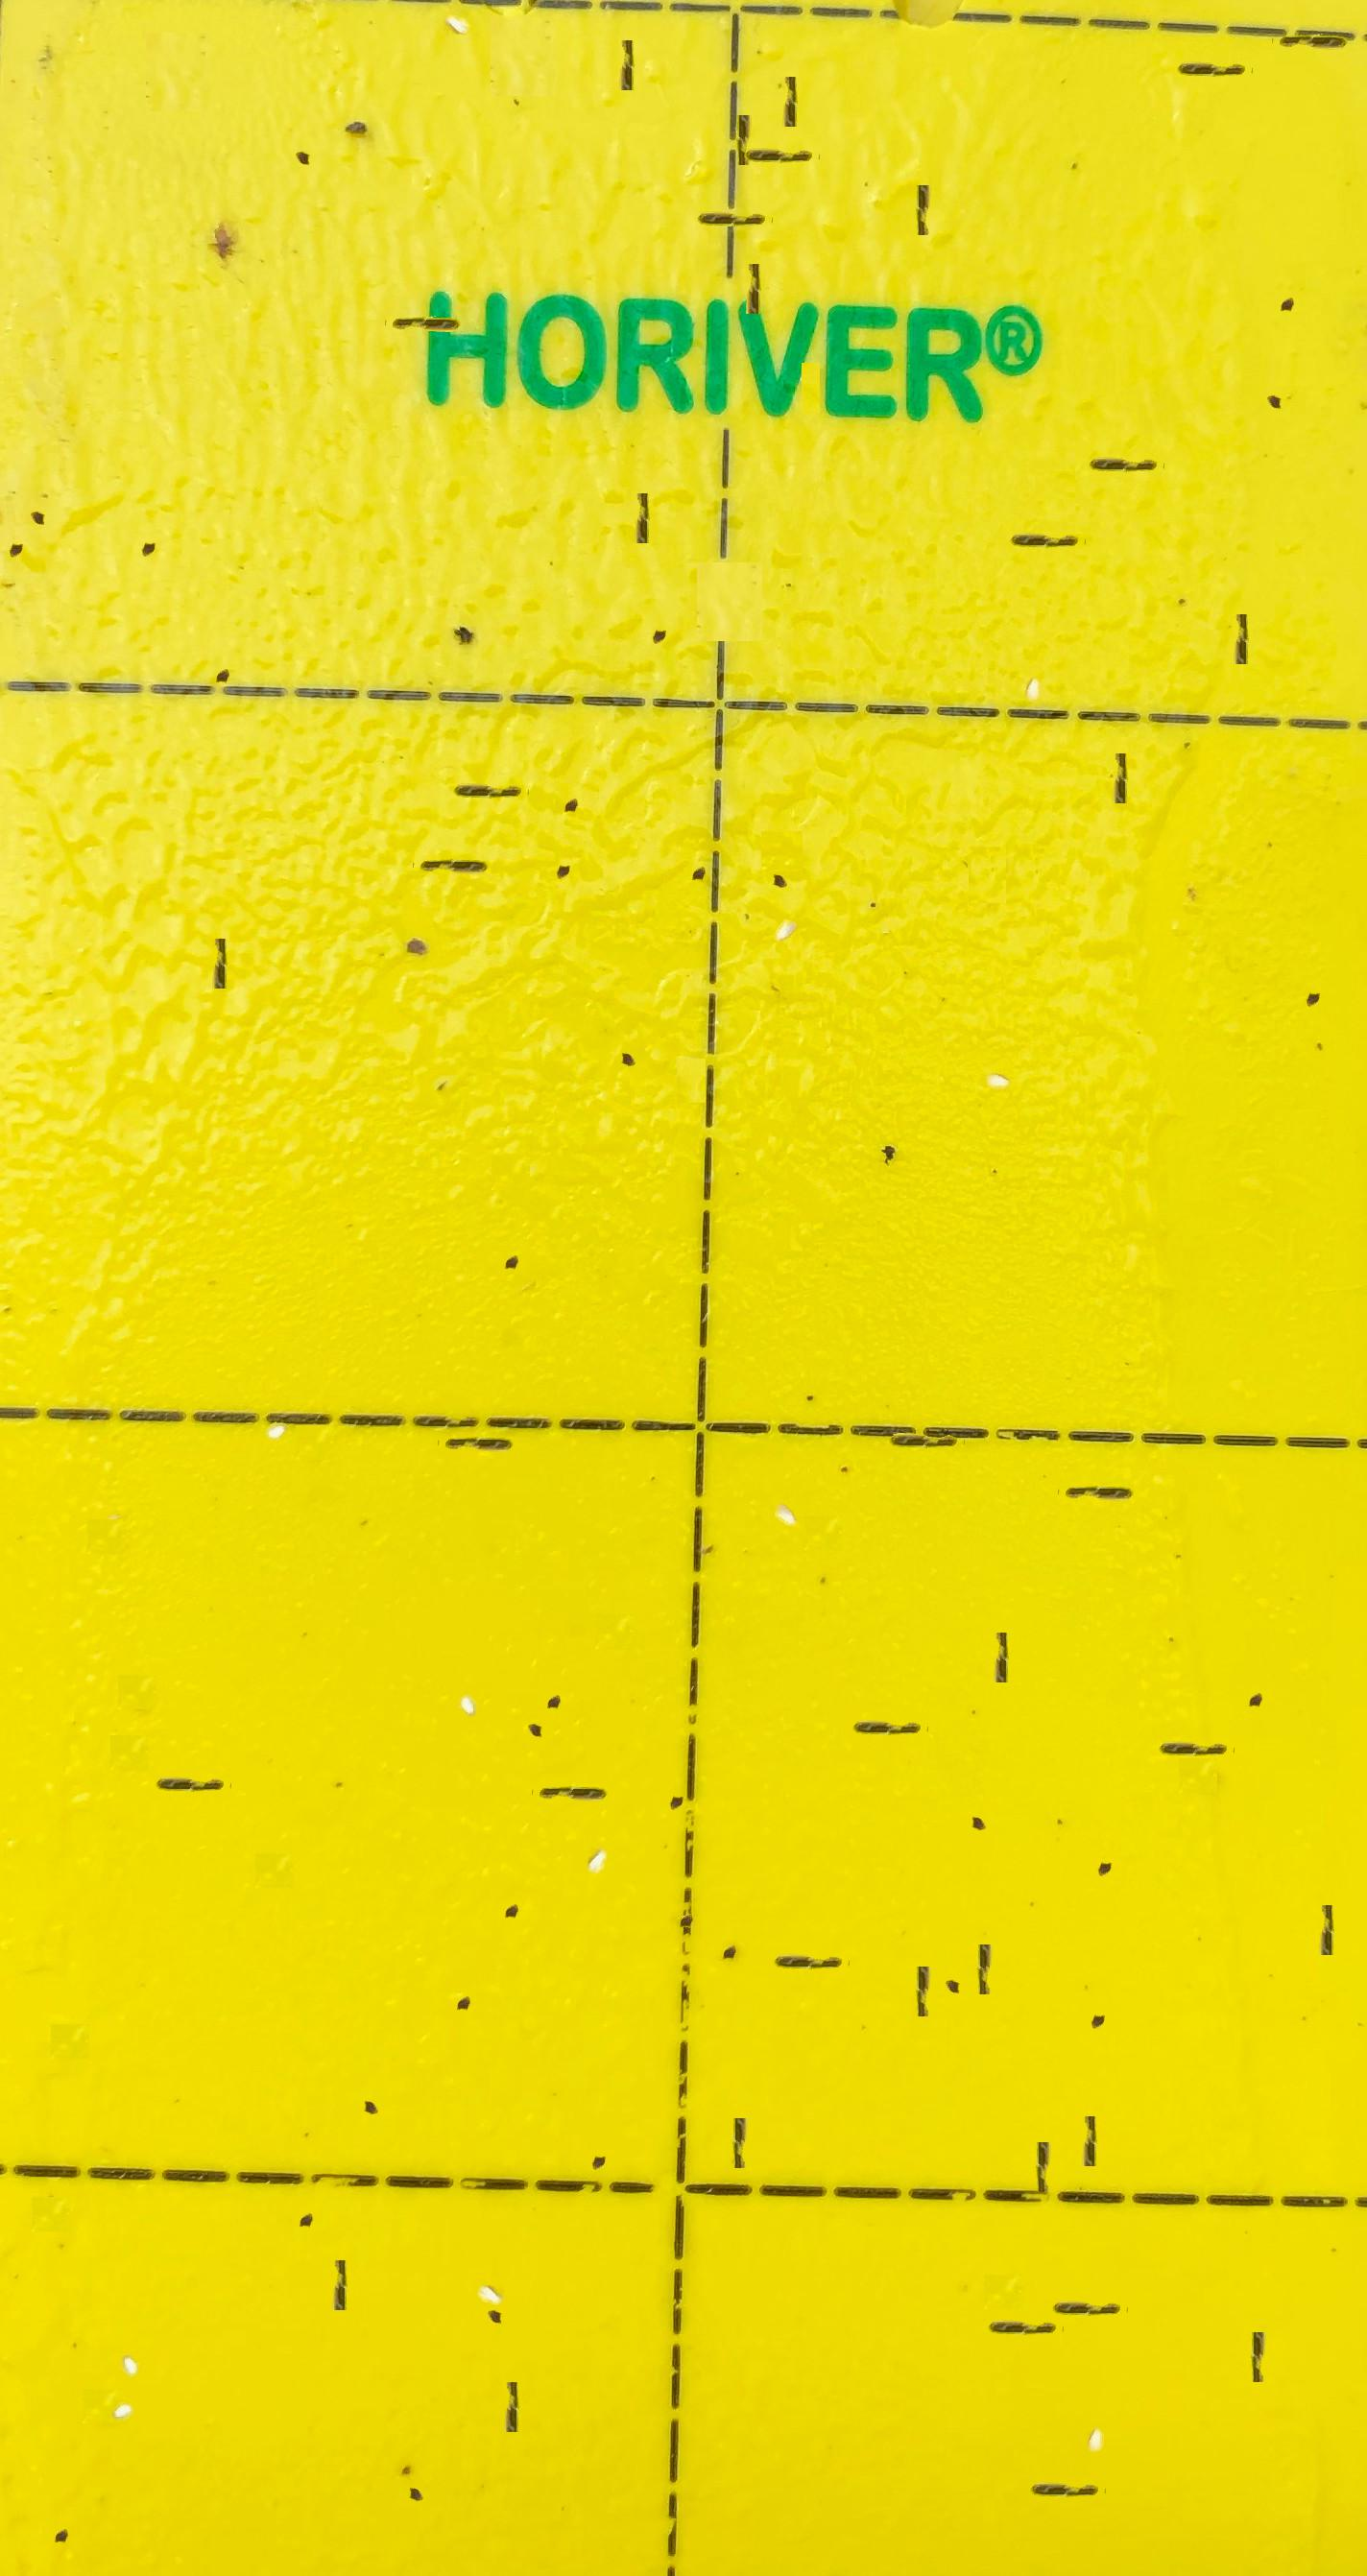white_fly: (102, 2339, 145, 2389), (254, 1360, 297, 1407), (447, 1632, 489, 1680), (109, 2295, 150, 2343), (578, 1797, 620, 1842), (467, 2228, 508, 2274), (764, 1450, 806, 1492), (765, 865, 808, 908), (1074, 2385, 1115, 2423), (1011, 634, 1052, 671), (977, 1024, 1018, 1060)
